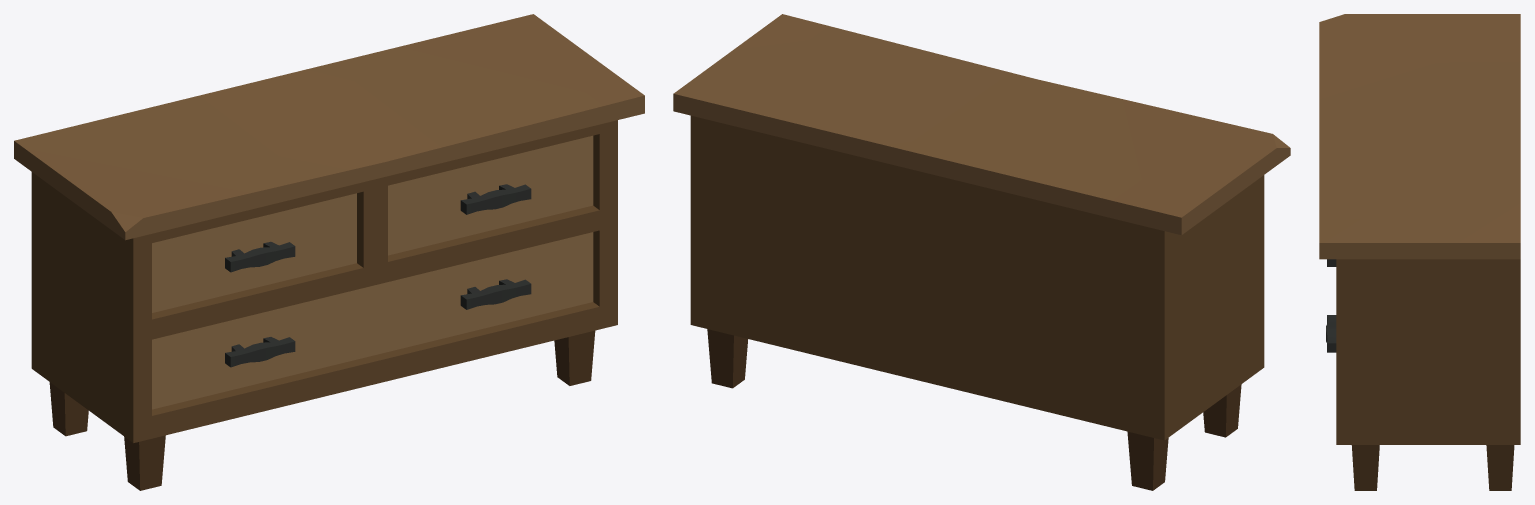
File: SM_Prop_Dresser_08.obj
3 views of the same model, side by side, from view 1: azimuth 30°, elevation 25°; view 2: azimuth 150°, elevation 25°; view 3: azimuth 270°, elevation 25° (orthographic). The views are drawn at different scales.
Visible parts, largest first — view 1: SM_Prop_Dresser_08_Mat_SwatchOverlay_Farm_01_Wood_Inst, SM_Prop_Dresser_08_Mat_SwatchOverlay_Farm_01_Inst; view 2: SM_Prop_Dresser_08_Mat_SwatchOverlay_Farm_01_Wood_Inst; view 3: SM_Prop_Dresser_08_Mat_SwatchOverlay_Farm_01_Wood_Inst, SM_Prop_Dresser_08_Mat_SwatchOverlay_Farm_01_Inst.
Boxes of the visible parts, x1=… form: SM_Prop_Dresser_08_Mat_SwatchOverlay_Farm_01_Wood_Inst: x1=14, y1=14, x2=644, y2=490; SM_Prop_Dresser_08_Mat_SwatchOverlay_Farm_01_Inst: x1=225, y1=184, x2=531, y2=367; SM_Prop_Dresser_08_Mat_SwatchOverlay_Farm_01_Wood_Inst: x1=673, y1=14, x2=1290, y2=490; SM_Prop_Dresser_08_Mat_SwatchOverlay_Farm_01_Wood_Inst: x1=1319, y1=14, x2=1520, y2=490; SM_Prop_Dresser_08_Mat_SwatchOverlay_Farm_01_Inst: x1=1326, y1=259, x2=1336, y2=352.
Bounding box in the file's own units: 1.18 × 0.633 × 0.4385.
2 materials, 2 textured.
